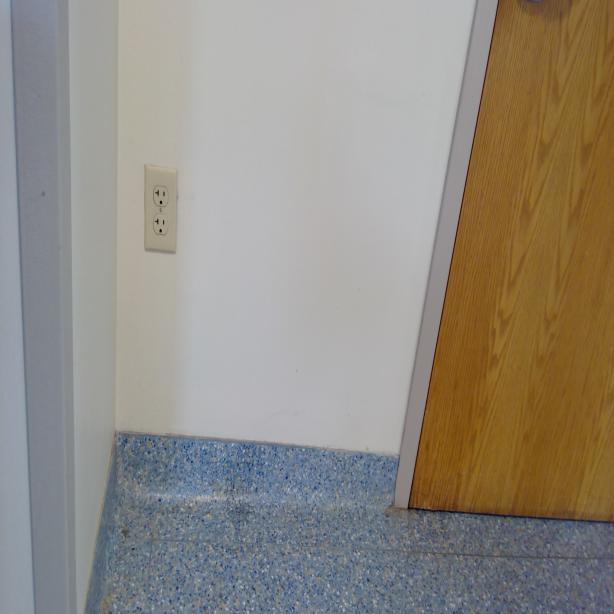typeb: (153, 185, 168, 207), (152, 217, 167, 236)
